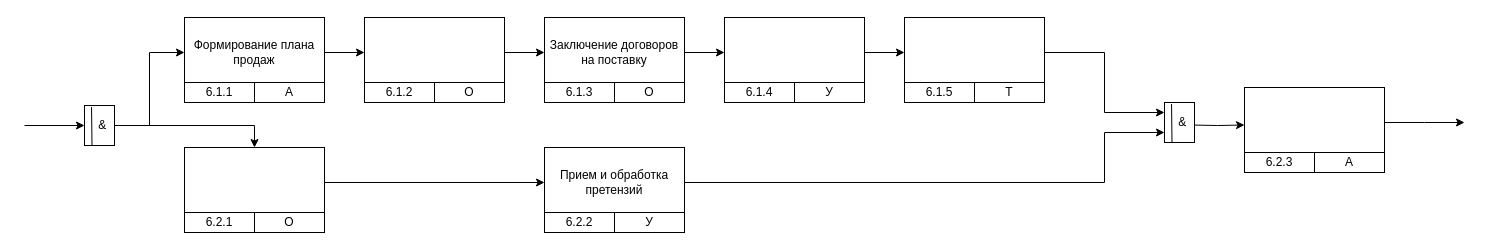
Image size: 1490x250. Some labels were removed from this diagram. The centre of each missing label's shape, as x and y in pixels:
"Консультирование клиентов" goes at (254,182).
"Мониторинг удовлетворенности клиентов" goes at (1314,122).
"Обработка заказов клиентов" goes at (434,52).
"Оформление отгрузочных документов" goes at (794,52).
"Формирование заказов на отгрузку" goes at (974,52).
